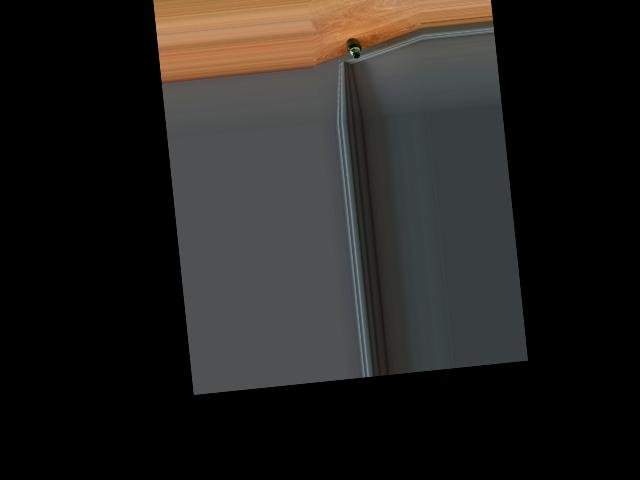beer: (346, 37, 362, 58)
